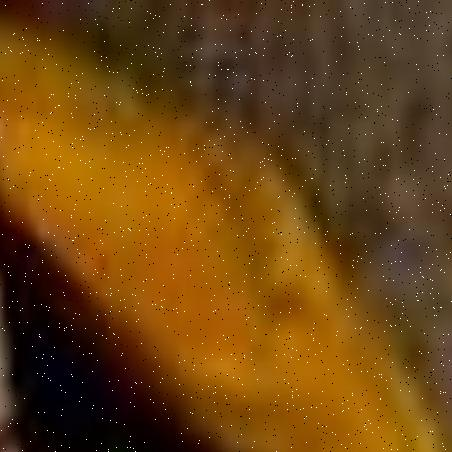Other: (0, 15, 440, 452)
